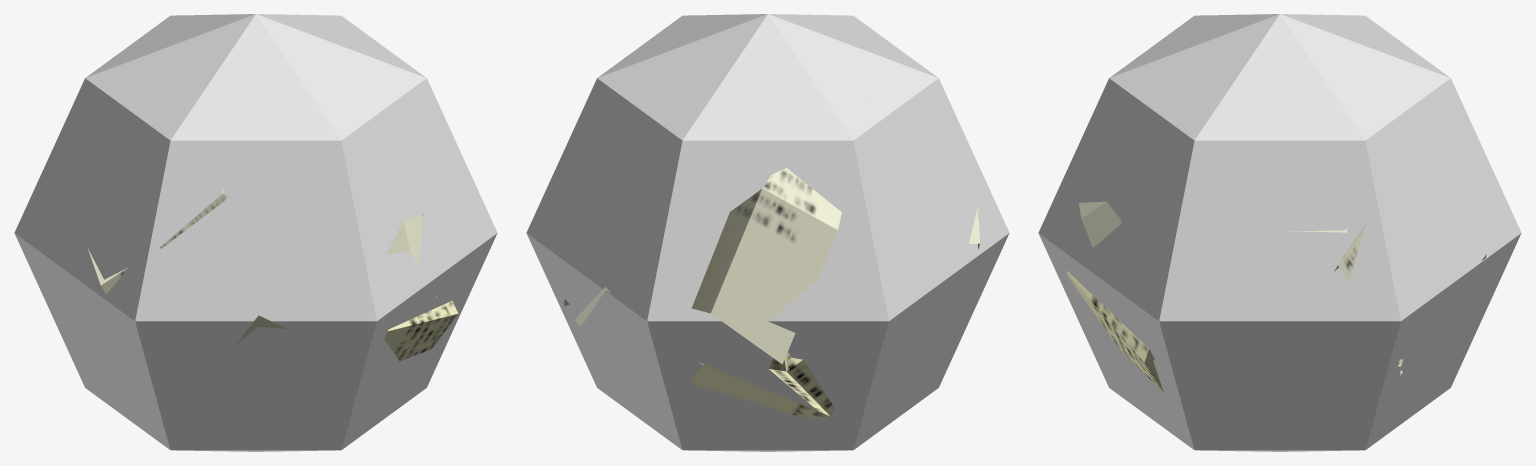
The model's file is PaperBall.fbx.
The picture shows the model from 3 angles, left to right: view 1: azimuth 30°, elevation 25°; view 2: azimuth 150°, elevation 25°; view 3: azimuth 270°, elevation 25°; orthographic projection.
Visible parts, largest first — view 1: Sphere.001, Plane.003; view 2: Sphere.001, Plane.003; view 3: Sphere.001, Plane.003.
Boxes of the visible parts, x1,y1,x2,y2 form: Sphere.001: (14, 14, 497, 451); Plane.003: (87, 86, 458, 361); Sphere.001: (526, 14, 1009, 451); Plane.003: (564, 101, 980, 419); Sphere.001: (1038, 14, 1521, 451); Plane.003: (1066, 201, 1486, 392).
Bounding box in the file's own units: 0.4454 × 0.5108 × 0.5108.
1 material, 1 textured.
